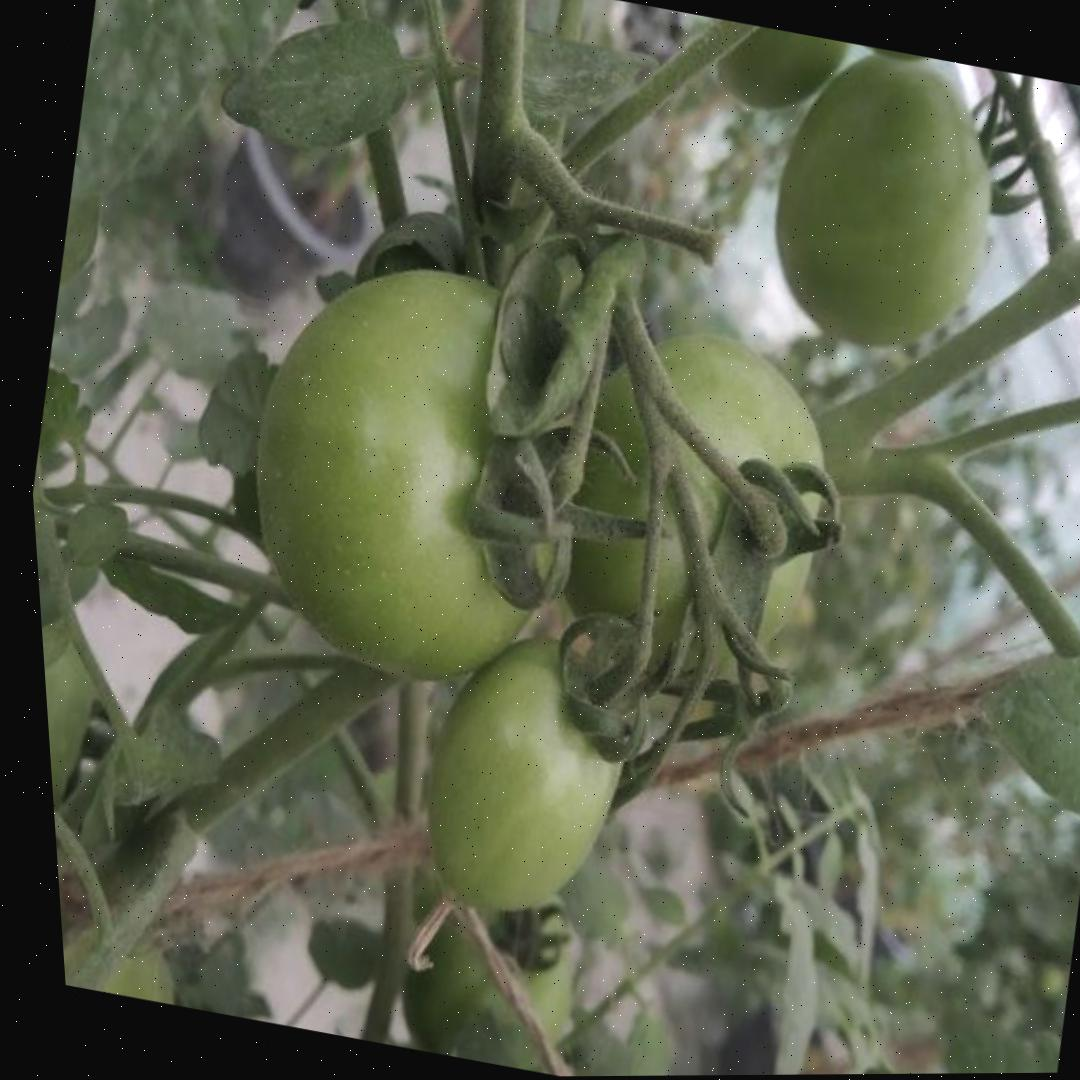mentah: (202, 237, 621, 710), (506, 304, 867, 717), (741, 34, 1031, 372), (394, 619, 662, 939)
